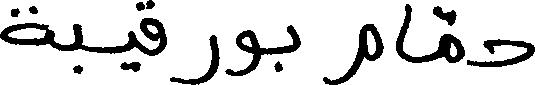X: (324, 19, 381, 84), (172, 30, 218, 84), (0, 1, 48, 50), (485, 34, 534, 71), (144, 0, 165, 60), (445, 5, 461, 67), (397, 0, 409, 66), (74, 19, 80, 78), (128, 26, 135, 76), (290, 20, 299, 57)
